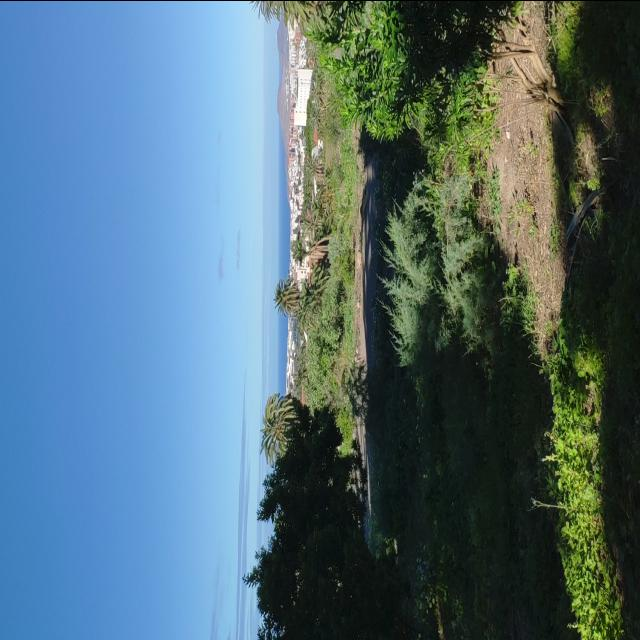Palm-Trees: (260, 388, 304, 466), (273, 280, 301, 316), (292, 236, 309, 264)
